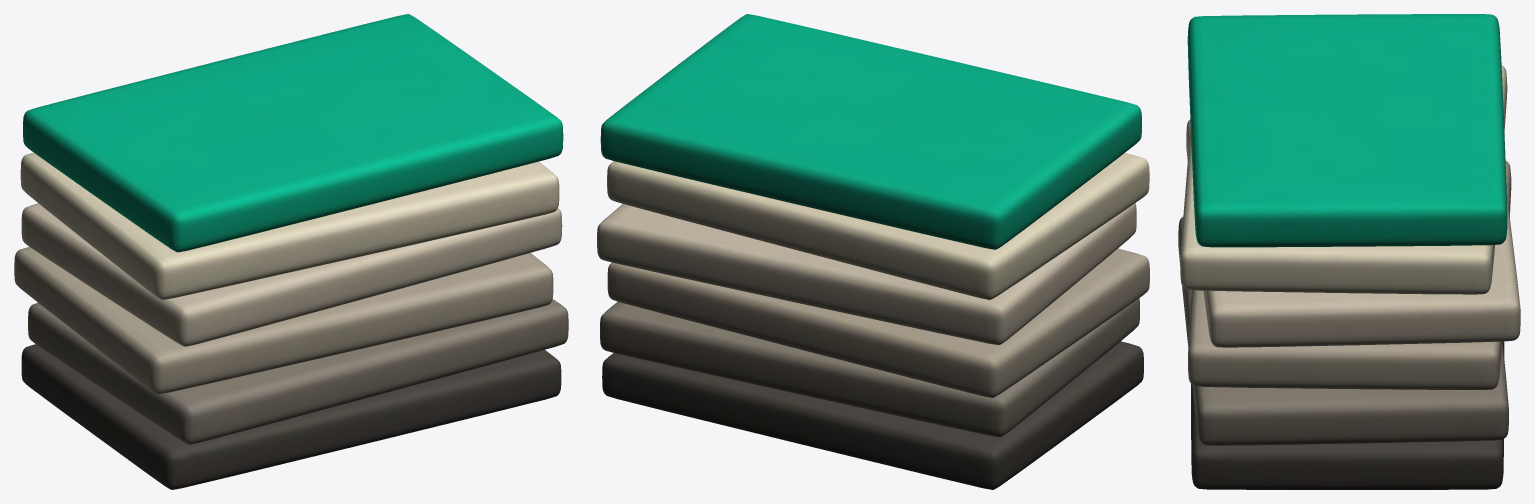
Rendered from stack.glb.
The picture shows the model from 3 angles, left to right: view 1: azimuth 30°, elevation 25°; view 2: azimuth 150°, elevation 25°; view 3: azimuth 270°, elevation 25°; orthographic projection. The views are drawn at different scales.
Parts seen in each view (by area): view 1: Slab_6_mesh, Slab_3_mesh, Slab_5_mesh, Slab_1_mesh, Slab_2_mesh, Slab_4_mesh; view 2: Slab_6_mesh, Slab_1_mesh, Slab_4_mesh, Slab_3_mesh, Slab_5_mesh, Slab_2_mesh; view 3: Slab_6_mesh, Slab_2_mesh, Slab_4_mesh, Slab_5_mesh, Slab_3_mesh, Slab_1_mesh.
Part boxes in pixels (x1,y1,x2,y2): Slab_6_mesh: [23, 14, 563, 252]; Slab_3_mesh: [14, 247, 553, 394]; Slab_5_mesh: [20, 152, 559, 299]; Slab_1_mesh: [21, 344, 561, 489]; Slab_2_mesh: [28, 299, 568, 444]; Slab_4_mesh: [21, 203, 562, 346]; Slab_6_mesh: [600, 14, 1141, 249]; Slab_1_mesh: [602, 341, 1143, 489]; Slab_4_mesh: [597, 203, 1136, 344]; Slab_3_mesh: [607, 248, 1149, 397]; Slab_5_mesh: [607, 153, 1149, 299]; Slab_2_mesh: [600, 298, 1139, 437]; Slab_6_mesh: [1187, 14, 1507, 247]; Slab_2_mesh: [1178, 217, 1508, 445]; Slab_4_mesh: [1186, 119, 1520, 347]; Slab_5_mesh: [1180, 65, 1507, 294]; Slab_3_mesh: [1188, 161, 1511, 389]; Slab_1_mesh: [1191, 341, 1504, 489].
Size of the model in its own units: 2.51 by 1.61 by 1.75.
Materials: 1 (1 with a texture image).
